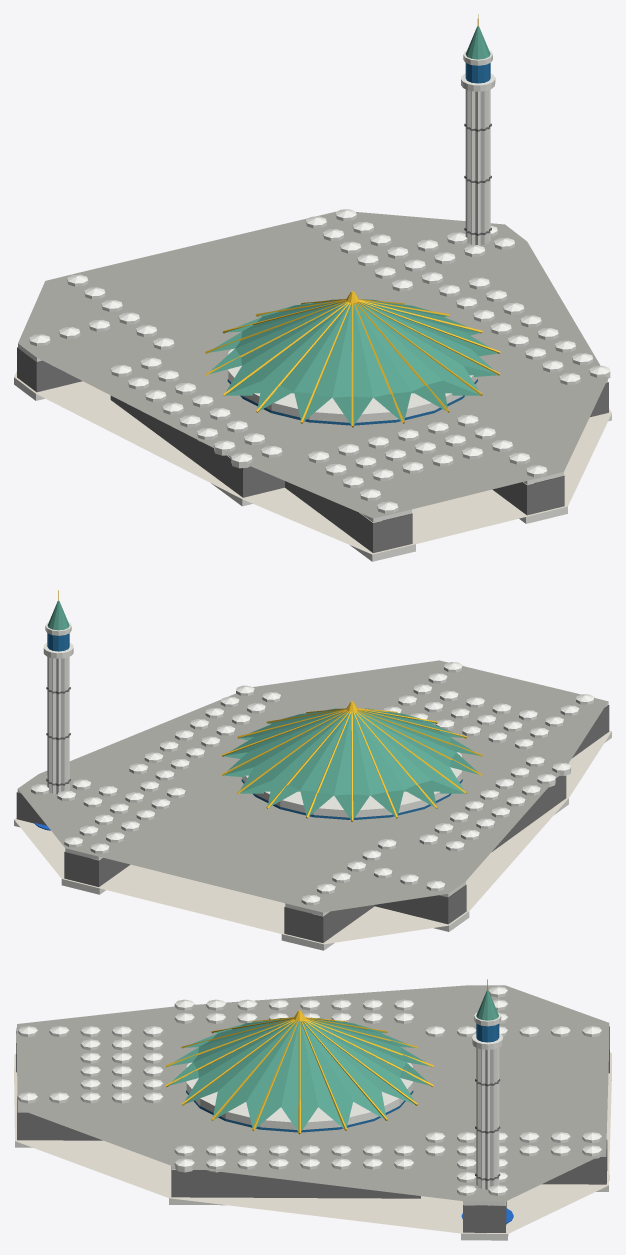
File: env_lm3_masjid_negara.fbx
3 views of the same model, one above another, from view 1: azimuth 30°, elevation 25°; view 2: azimuth 150°, elevation 25°; view 3: azimuth 270°, elevation 25° (orthographic). The views are drawn at different scales.
Visible parts, largest first — view 1: env_lm3_masjid_negara_geo_LOD0; view 2: env_lm3_masjid_negara_geo_LOD0; view 3: env_lm3_masjid_negara_geo_LOD0.
Part boxes in pixels (<box>): env_lm3_masjid_negara_geo_LOD0: <box>14,14,611,561</box>; env_lm3_masjid_negara_geo_LOD0: <box>14,590,611,950</box>; env_lm3_masjid_negara_geo_LOD0: <box>14,979,611,1240</box>.
Size of what is drawn, in the model's own units: 99.1 by 51.5 by 114.
